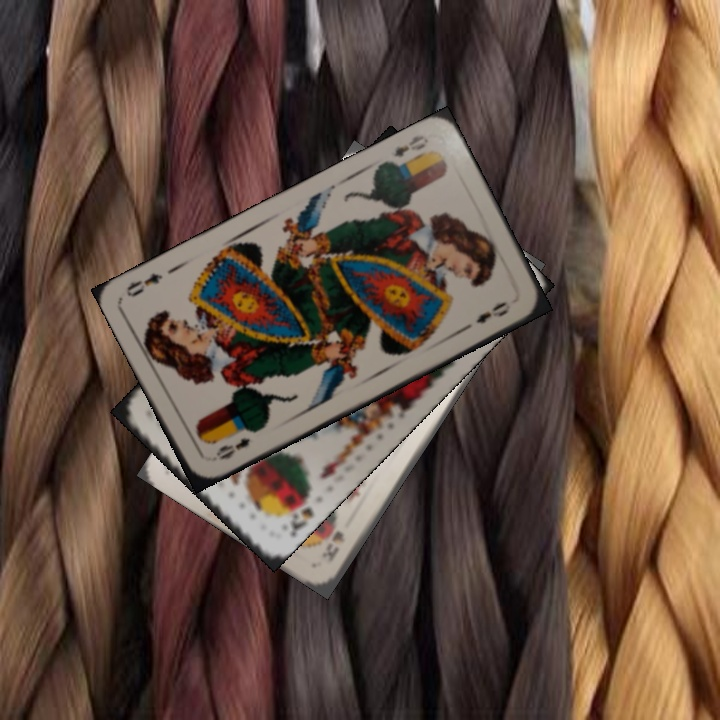EO: (212, 433, 253, 463), (390, 131, 431, 160)
SK: (285, 487, 317, 539), (323, 527, 347, 565)
